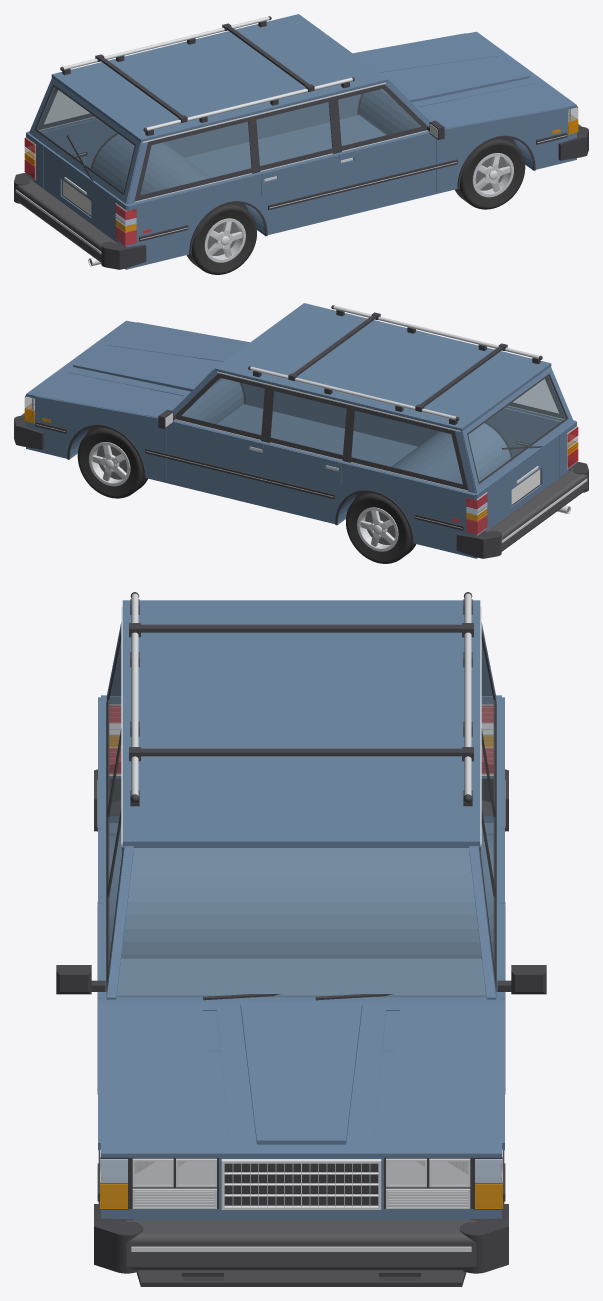
Rendered from volvo245.glb.
3 renders of one model, top to bottom at view 1: azimuth 30°, elevation 25°; view 2: azimuth 150°, elevation 25°; view 3: azimuth 270°, elevation 25°, orthographic. The views are drawn at different scales.
Bounding box in the file's own units: 4792 × 1528 × 2090.
